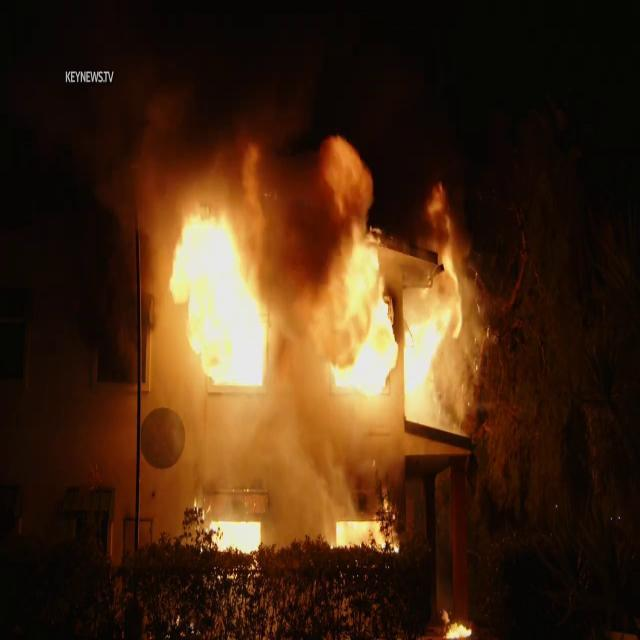Fire: (287, 134, 483, 428), (158, 199, 290, 399), (437, 599, 475, 639)
